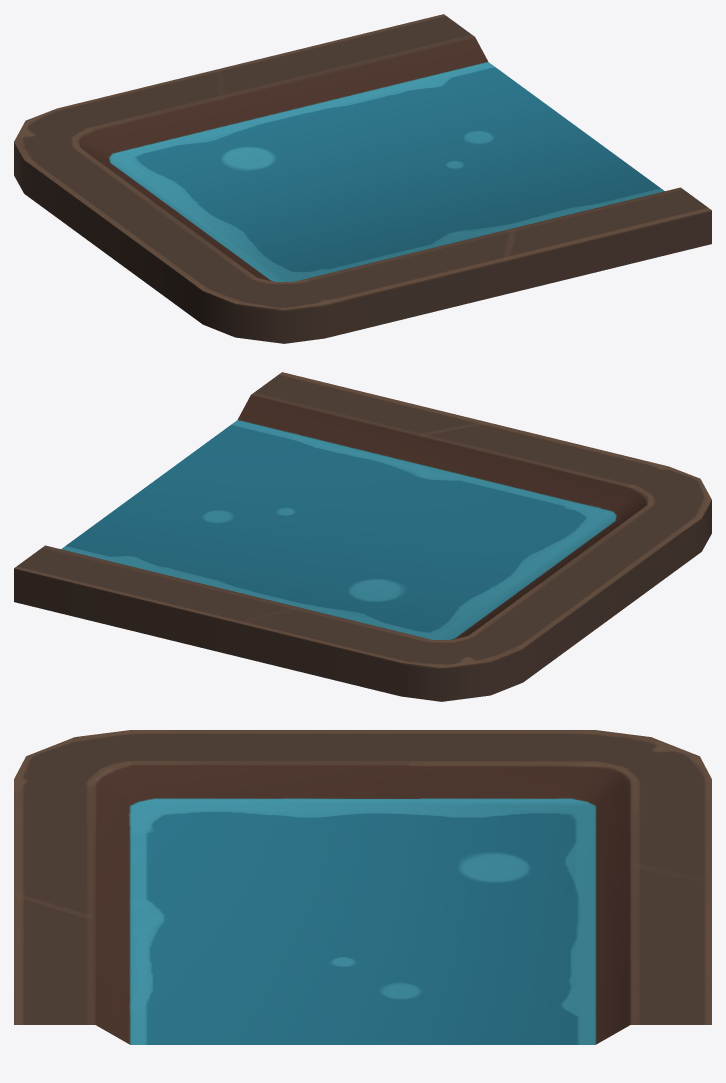
Rendered from forest_water_tile_02.fbx.
3 views of the same model, one above another, from view 1: azimuth 30°, elevation 25°; view 2: azimuth 150°, elevation 25°; view 3: azimuth 270°, elevation 25° (orthographic). The views are drawn at different scales.
Visible parts, largest first — view 1: forest_water_tile_02; view 2: forest_water_tile_02; view 3: forest_water_tile_02.
Boxes of the visible parts, x1,y1,x2,y2 form: forest_water_tile_02: (14, 14, 711, 343); forest_water_tile_02: (14, 372, 711, 701); forest_water_tile_02: (14, 730, 711, 1044).
Bounding box in the file's own units: 2 × 0.1389 × 2.
